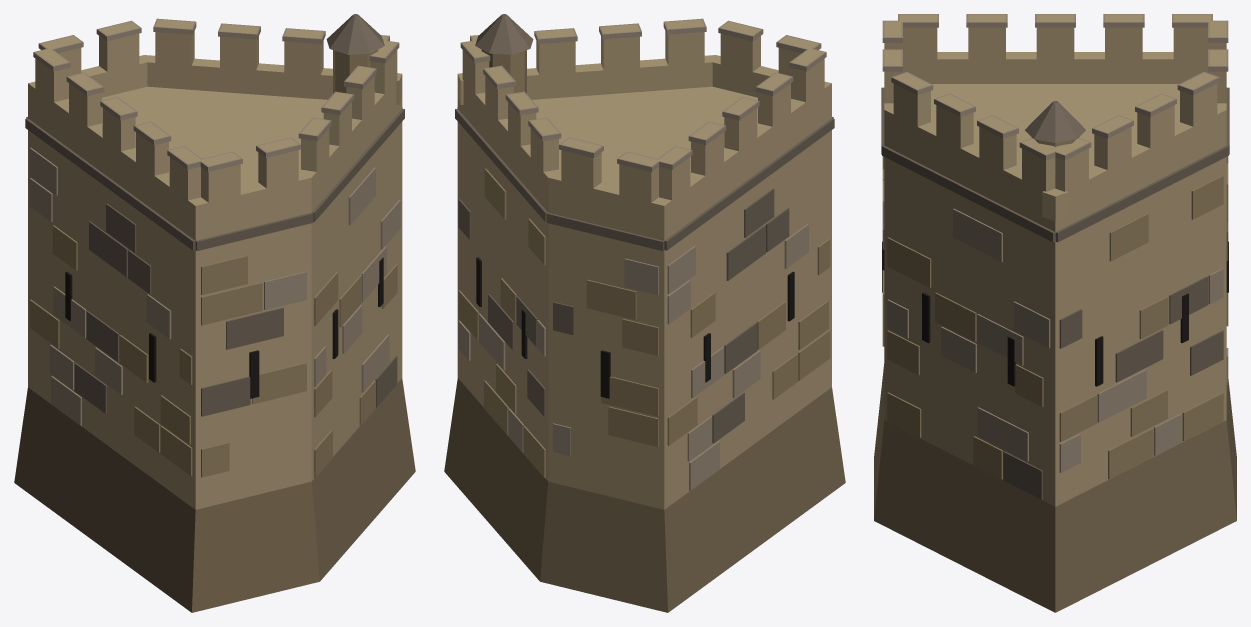
Rendered from fort_masonry_bastion.glb.
3 views of the same model, side by side, from view 1: azimuth 30°, elevation 25°; view 2: azimuth 150°, elevation 25°; view 3: azimuth 270°, elevation 25° (orthographic). The views are drawn at different scales.
Parts seen in each view (by area): view 1: fort_masonry_bastion; view 2: fort_masonry_bastion; view 3: fort_masonry_bastion.
Boxes of the visible parts, x1,y1,x2,y2 form: fort_masonry_bastion: (14,14,415,612); fort_masonry_bastion: (444,14,845,612); fort_masonry_bastion: (874,14,1236,612).
Bounding box in the file's own units: 10.77 × 15.5 × 10.6.
